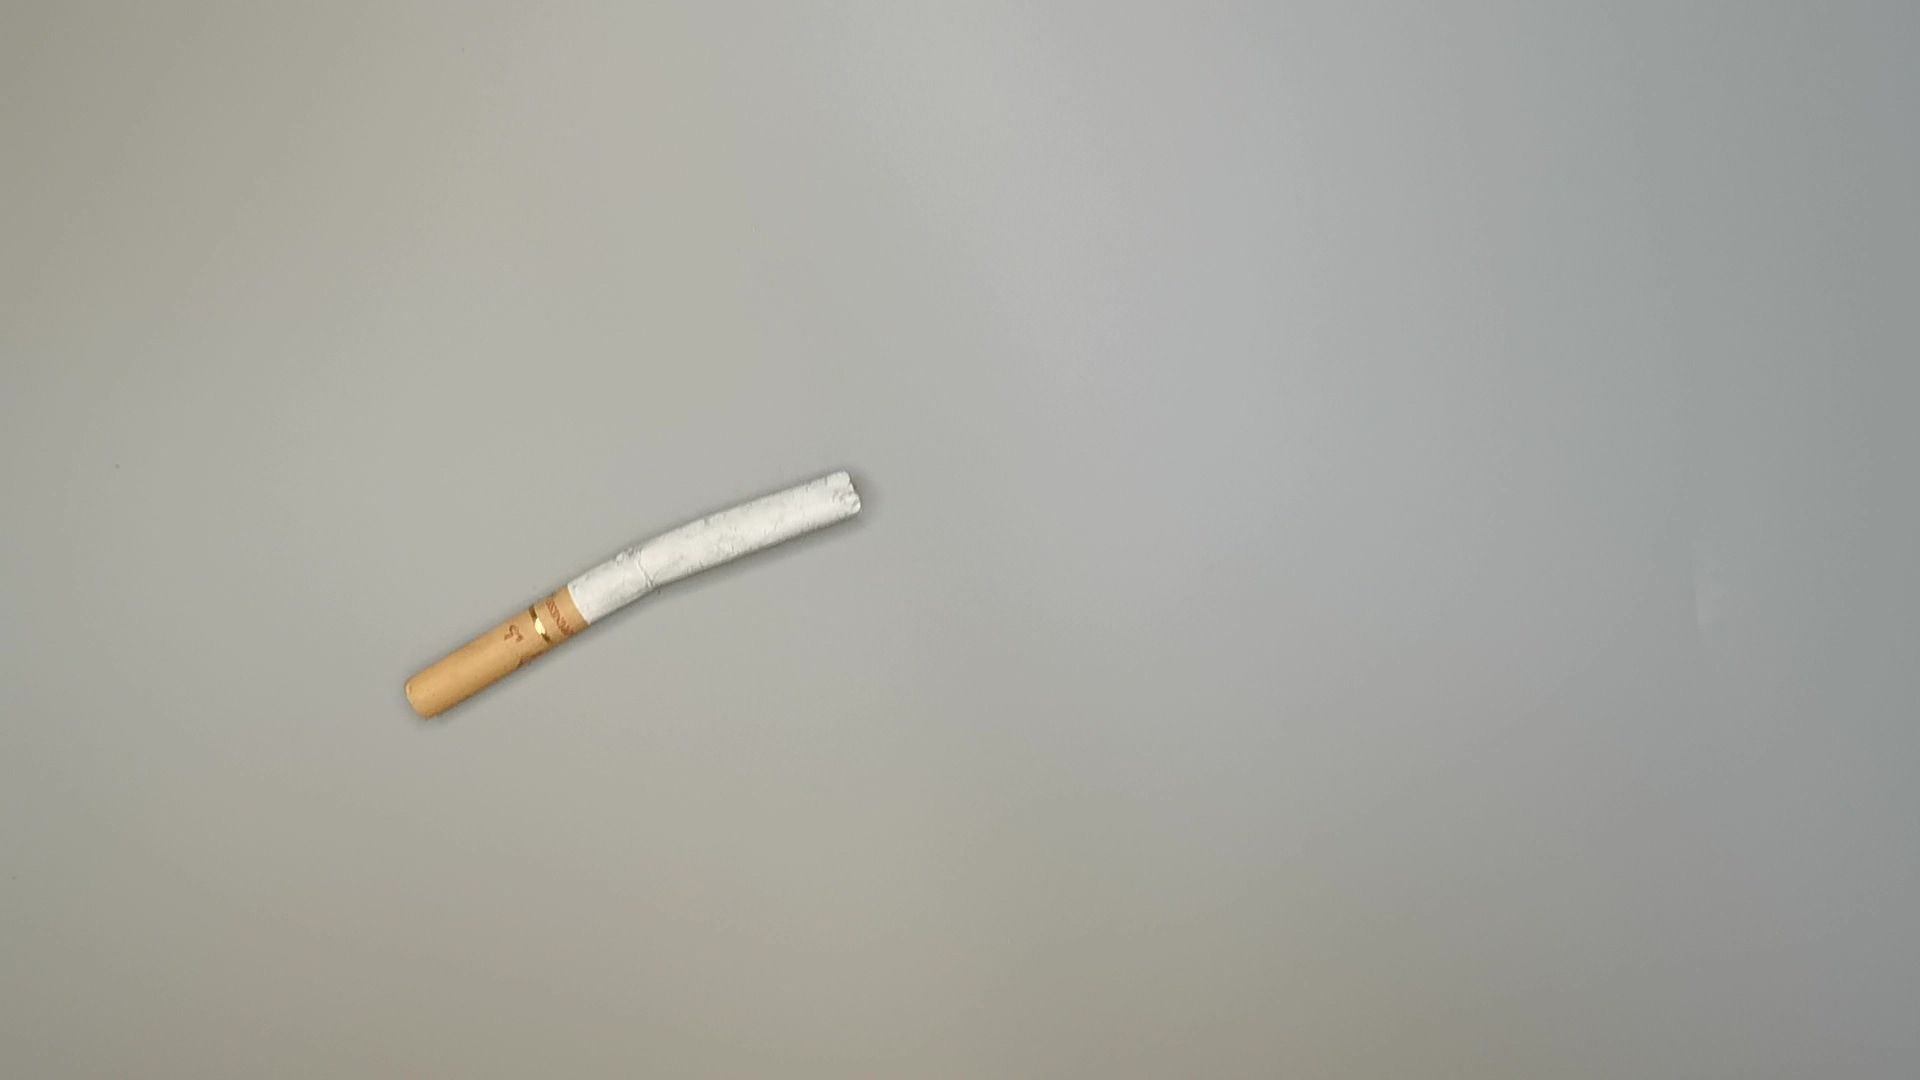cigarette: (388, 469, 878, 724)
